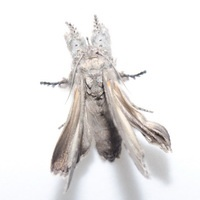insect: (51, 15, 171, 188)
